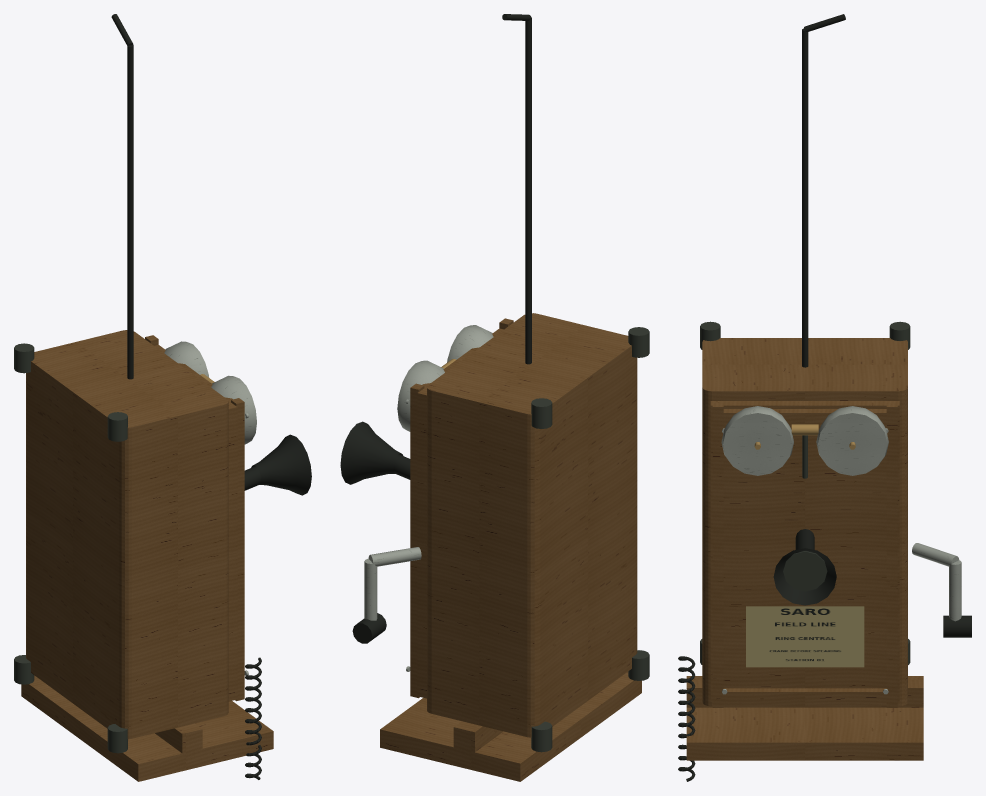
Rendered from SM_FieldKit_FieldPhone.glb.
The picture shows the model from 3 angles, left to right: view 1: azimuth 30°, elevation 25°; view 2: azimuth 150°, elevation 25°; view 3: azimuth 270°, elevation 25°; orthographic projection. The views are drawn at different scales.
Parts seen in each view (by area): view 1: SM_FieldKit_FieldPhone; view 2: SM_FieldKit_FieldPhone; view 3: SM_FieldKit_FieldPhone.
Boxes of the visible parts, x1=… form: SM_FieldKit_FieldPhone: x1=14, y1=14, x2=311, y2=781; SM_FieldKit_FieldPhone: x1=340, y1=14, x2=649, y2=781; SM_FieldKit_FieldPhone: x1=678, y1=14, x2=971, y2=781.
Size of the model in its own units: 0.346 by 1.03 by 0.3719.
6 materials, 3 textured.
